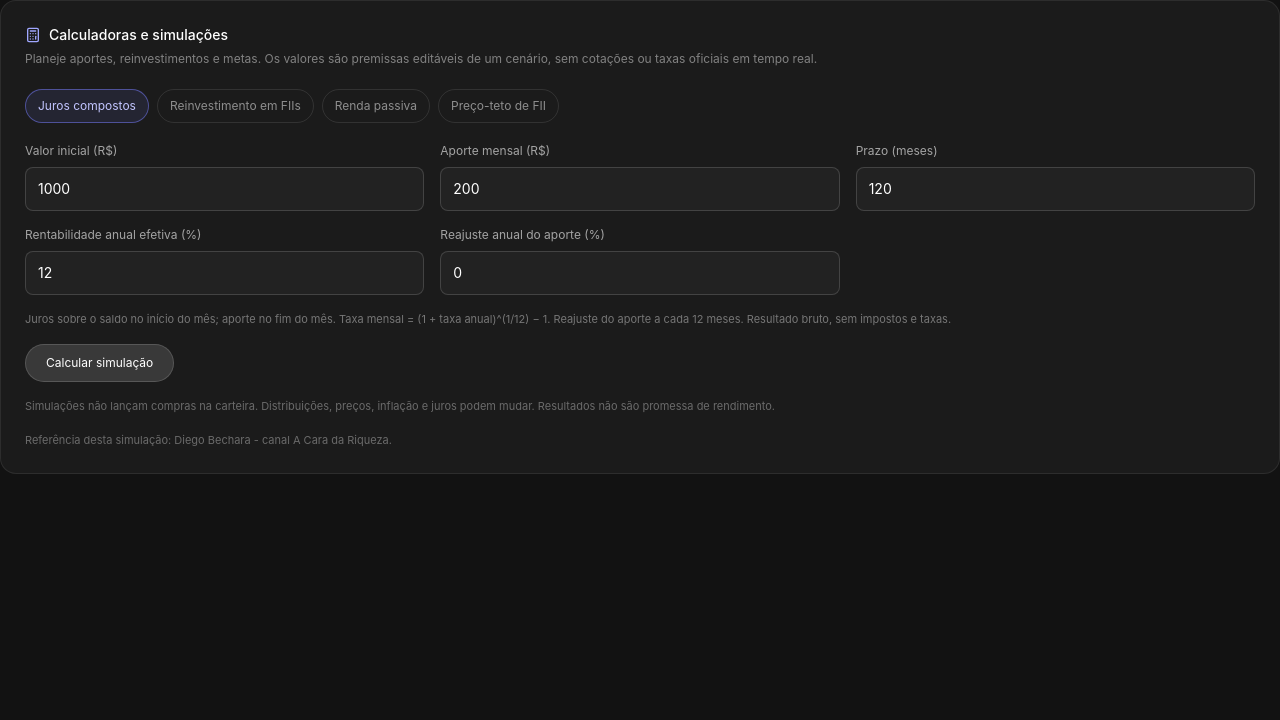
Test case: calcula juros e invalida o resultado ao mudar premissas
Click the button "Calcular simulação" at (100, 363), box left=25, top=344, right=174, bottom=382
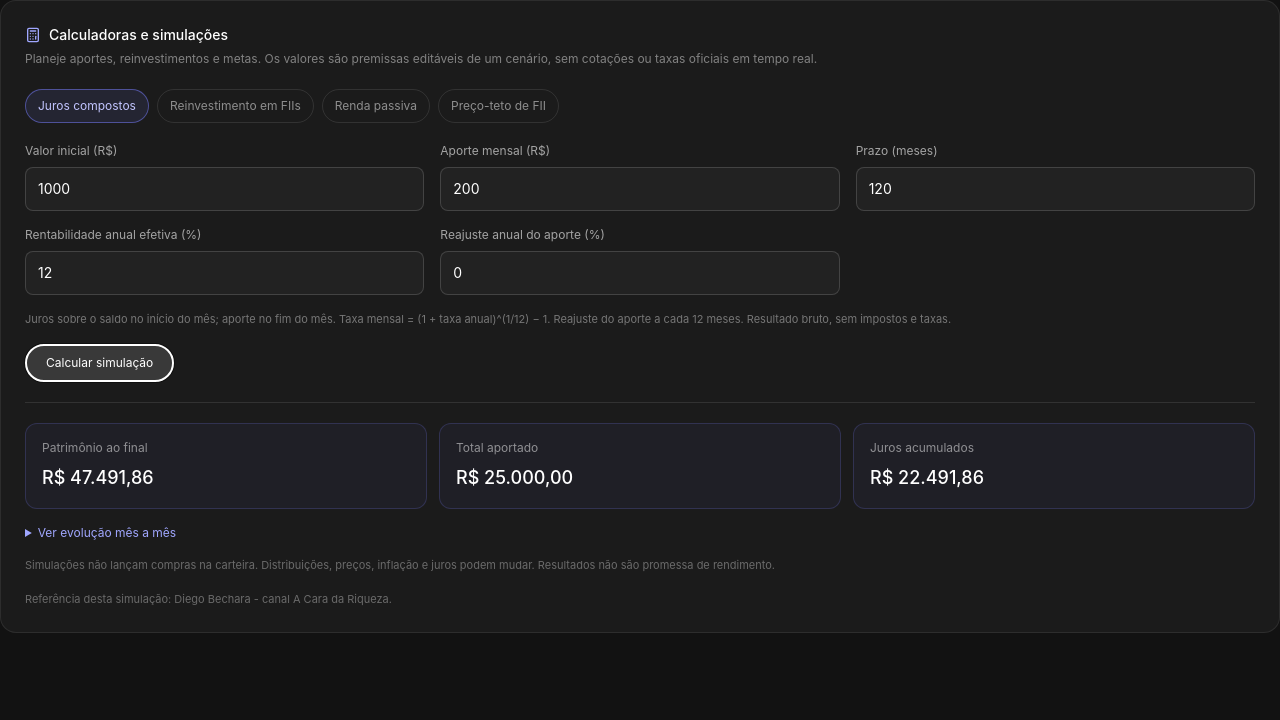
Expected: the text "Juros acumulados" is shown, left=870, top=440, right=974, bottom=455
Clear the number field labelled "Aporte mensal (R$)" at (640, 188), box left=440, top=166, right=840, bottom=210
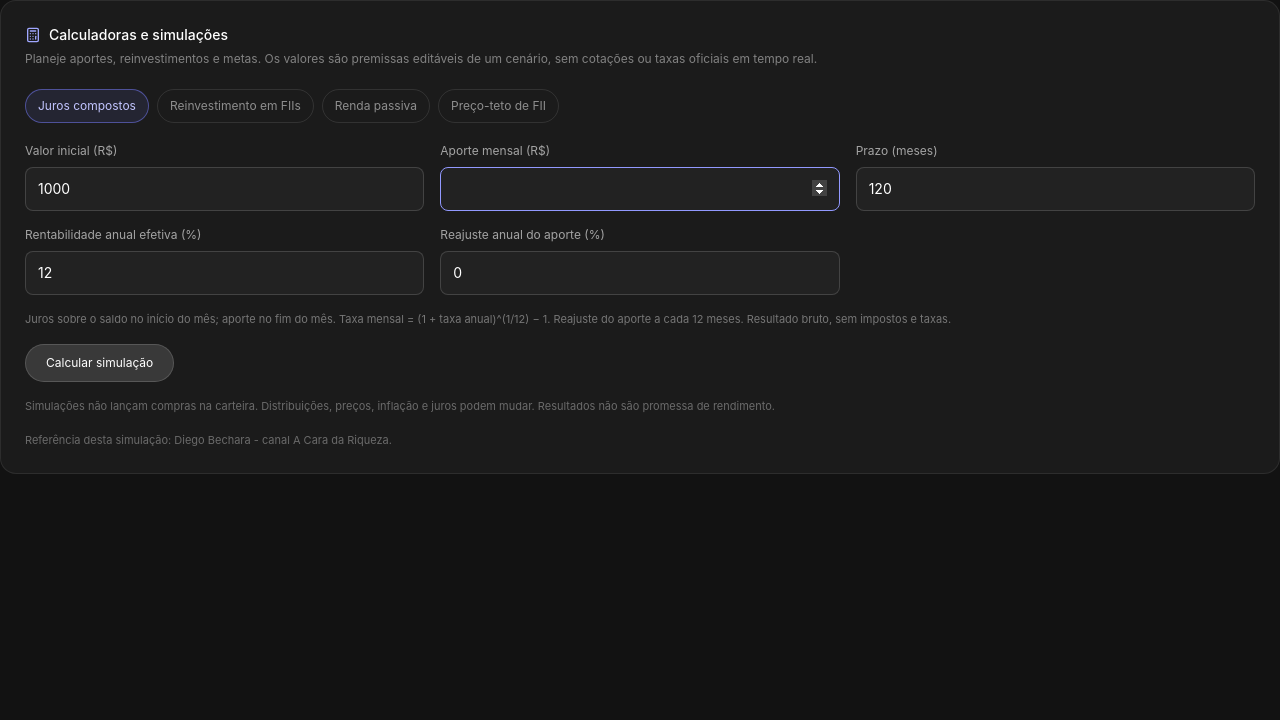
Expected: the text "Juros acumulados" is gone
